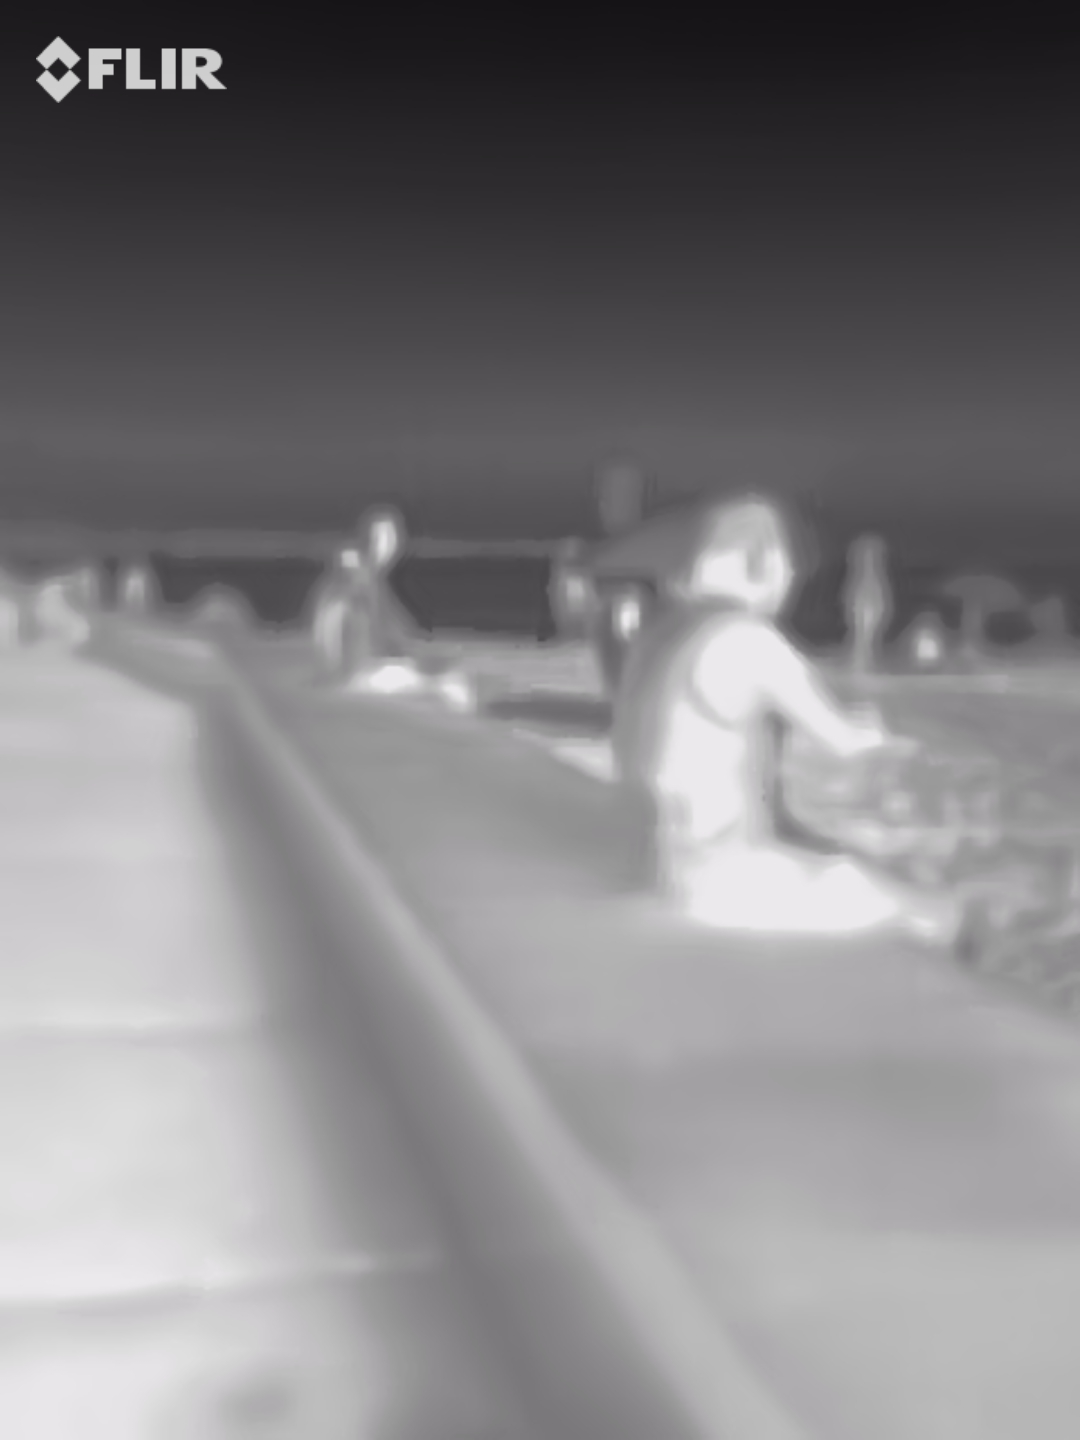head: (697, 487, 803, 615)
